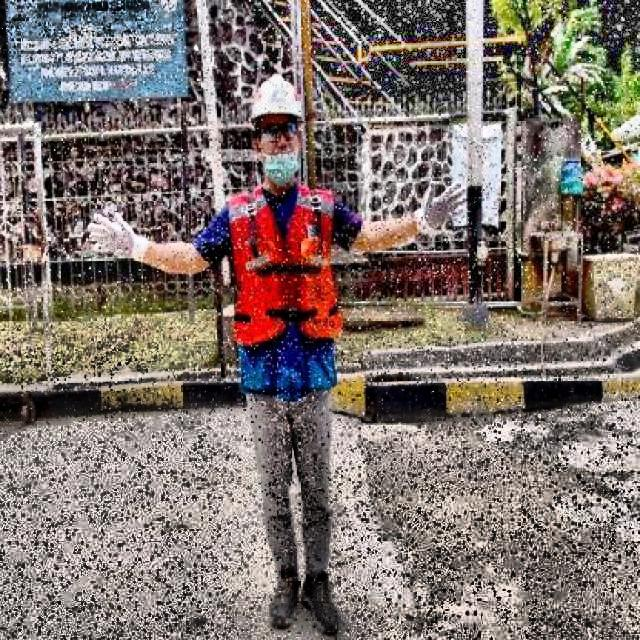safety_helmet: (250, 74, 304, 122)
safety_jacket: (222, 178, 352, 400)
